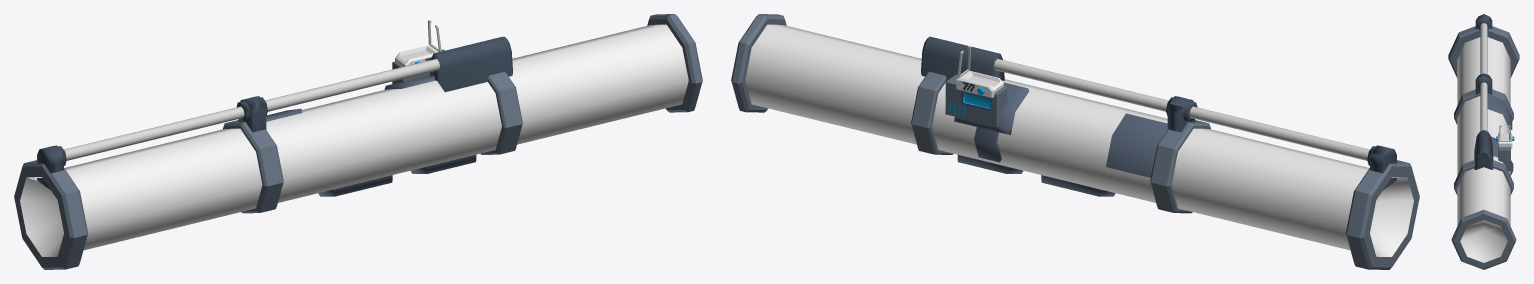
The model's file is ExpendableAT.fbx.
3 renders of one model, left to right at view 1: azimuth 30°, elevation 25°; view 2: azimuth 150°, elevation 25°; view 3: azimuth 270°, elevation 25°, orthographic. The views are drawn at different scales.
Visible parts, largest first — view 1: ExpendableAT2_ScopeA; view 2: ExpendableAT2_ScopeA; view 3: ExpendableAT2_ScopeA.
Boxes of the visible parts, x1,y1,x2,y2 form: ExpendableAT2_ScopeA: [14, 14, 702, 269]; ExpendableAT2_ScopeA: [731, 14, 1419, 269]; ExpendableAT2_ScopeA: [1448, 14, 1519, 269].
Size of the model in its own units: 0.8471 by 0.1718 by 0.1364.
